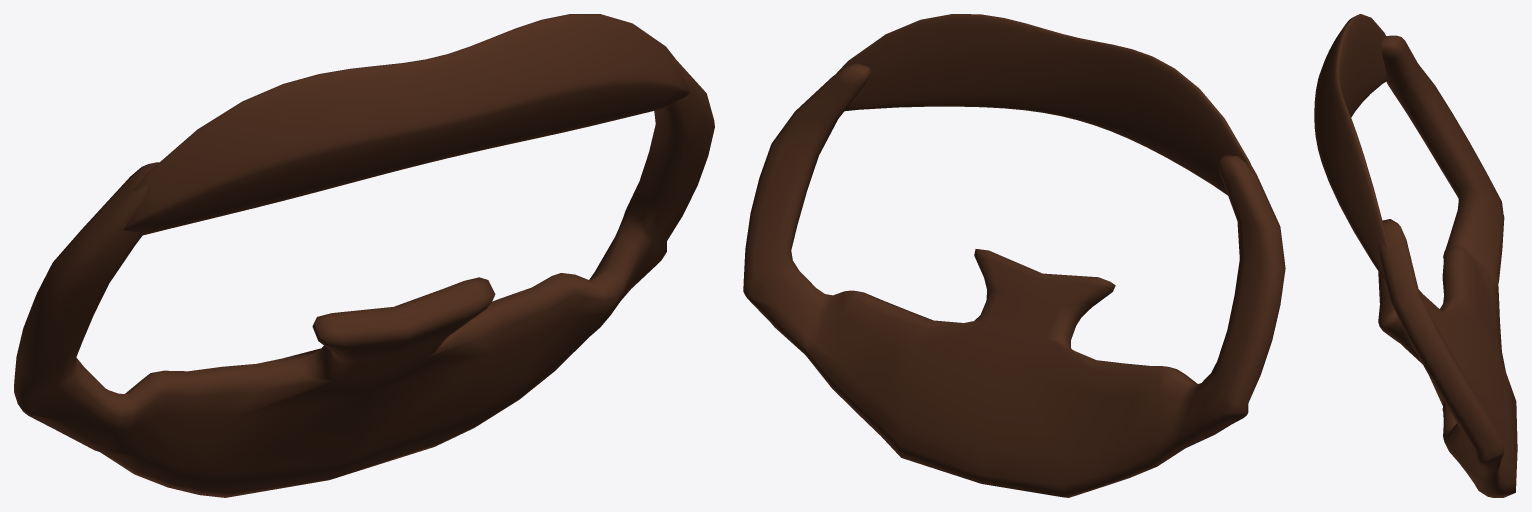
3 renders of one model, left to right at view 1: azimuth 30°, elevation 25°; view 2: azimuth 150°, elevation 25°; view 3: azimuth 270°, elevation 25°, orthographic. The views are drawn at different scales.
Visible parts, largest first — view 1: beardMediumCircle; view 2: beardMediumCircle; view 3: beardMediumCircle.
Part boxes in pixels (left/top/right/bottom): beardMediumCircle: left=14, top=14, right=714, bottom=497; beardMediumCircle: left=743, top=14, right=1285, bottom=497; beardMediumCircle: left=1314, top=14, right=1517, bottom=497.
Bounding box in the file's own units: 0.2333 × 0.169 × 0.0786.
Materials: 1 (1 with a texture image).
